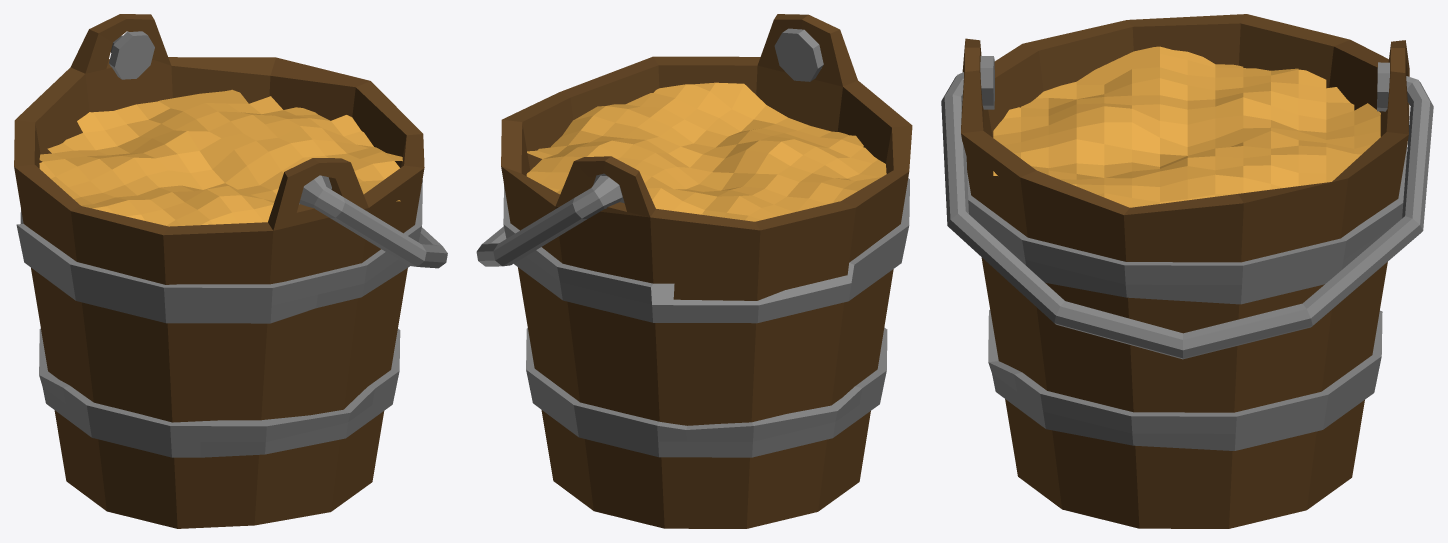
Rendered from Bucket_sand.fbx.
The picture shows the model from 3 angles, left to right: view 1: azimuth 30°, elevation 25°; view 2: azimuth 150°, elevation 25°; view 3: azimuth 270°, elevation 25°; orthographic projection. The views are drawn at different scales.
Parts seen in each view (by area): view 1: Cylinder, Plane; view 2: Cylinder, Plane; view 3: Cylinder, Plane.
Part boxes in pixels (<box>): Cylinder: <box>14,14,447,528</box>; Plane: <box>39,89,402,226</box>; Cylinder: <box>476,14,912,528</box>; Plane: <box>526,82,886,221</box>; Cylinder: <box>941,14,1433,528</box>; Plane: <box>993,46,1380,207</box>.
Bounding box in the file's own units: 243 × 235 × 255.
